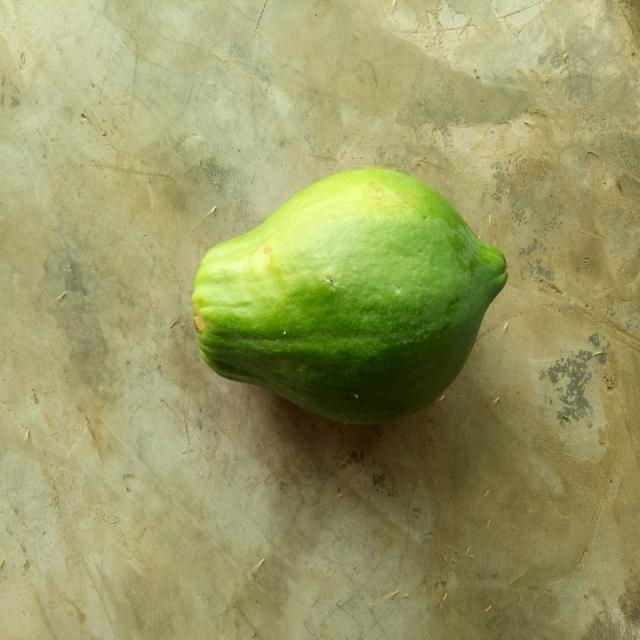Pepaya unrippen: (186, 165, 508, 442)
